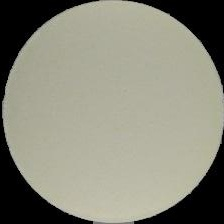0378-4884: (0, 0, 224, 224)
